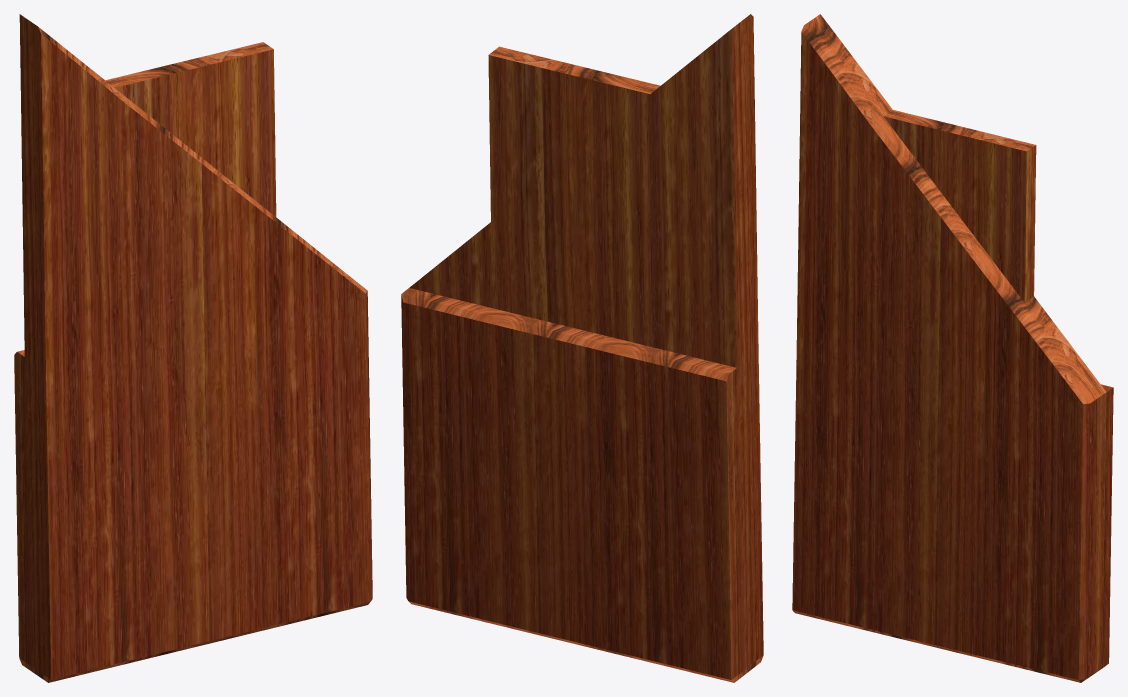
The model's file is GMY_J_houyatou_02.FBX.
3 renders of one model, left to right at view 1: azimuth 30°, elevation 25°; view 2: azimuth 150°, elevation 25°; view 3: azimuth 330°, elevation 25°, orthographic. The views are drawn at different scales.
Visible parts, largest first — view 1: GMY_J_houyatou_02; view 2: GMY_J_houyatou_02; view 3: GMY_J_houyatou_02.
Part boxes in pixels (x1=…): GMY_J_houyatou_02: x1=14, y1=14, x2=372, y2=682; GMY_J_houyatou_02: x1=401, y1=14, x2=763, y2=682; GMY_J_houyatou_02: x1=792, y1=14, x2=1113, y2=682.
Size of the model in its own units: 4.7 by 9 by 0.9251.
